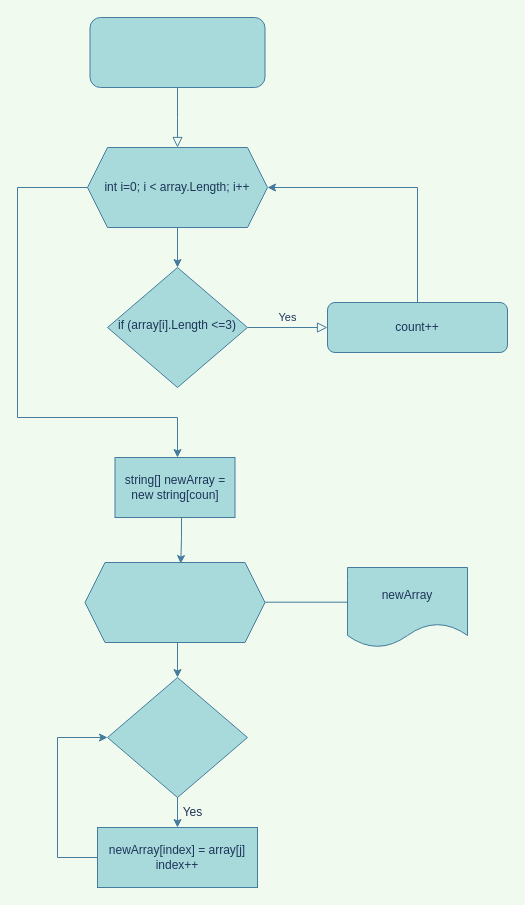
The diagram is 525 pixels wide and 905 high, and some of its shapes have lost their labels. The shapes that lost their labels are listed below. From the top down, each one's box as (x1, y1, x2, y2) in pixels, then its label:
(89, 16, 265, 88): string array[] = new string[n] int count = 0 int index = 0
(84, 562, 265, 642): int j=0; j < array.Length; j++
(106, 676, 248, 798): if (array[j].Length <=3)
